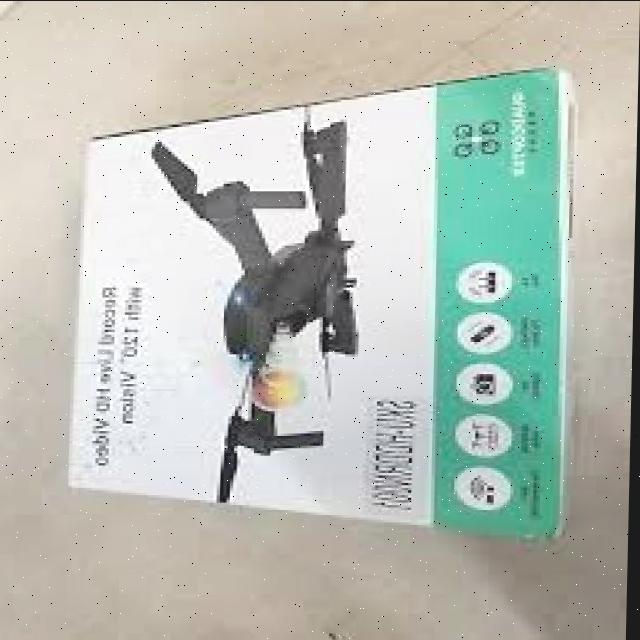drone: (141, 108, 408, 506)
